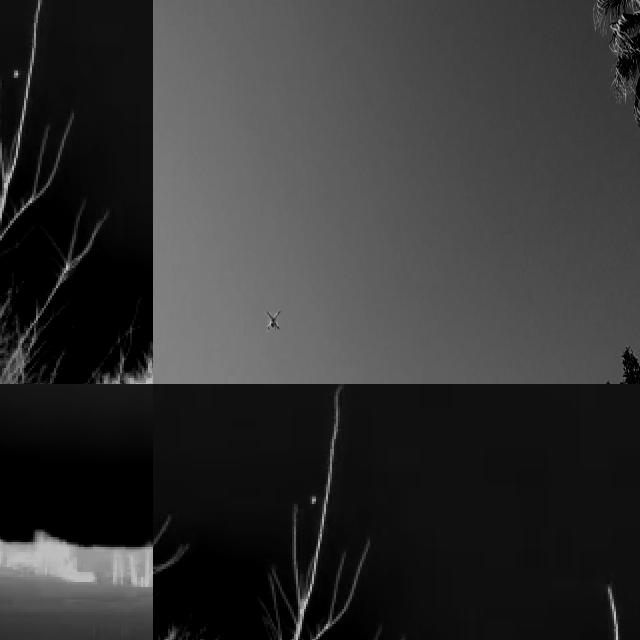0: (8, 64, 26, 87), (305, 490, 323, 513)
drone: (262, 306, 284, 338)
